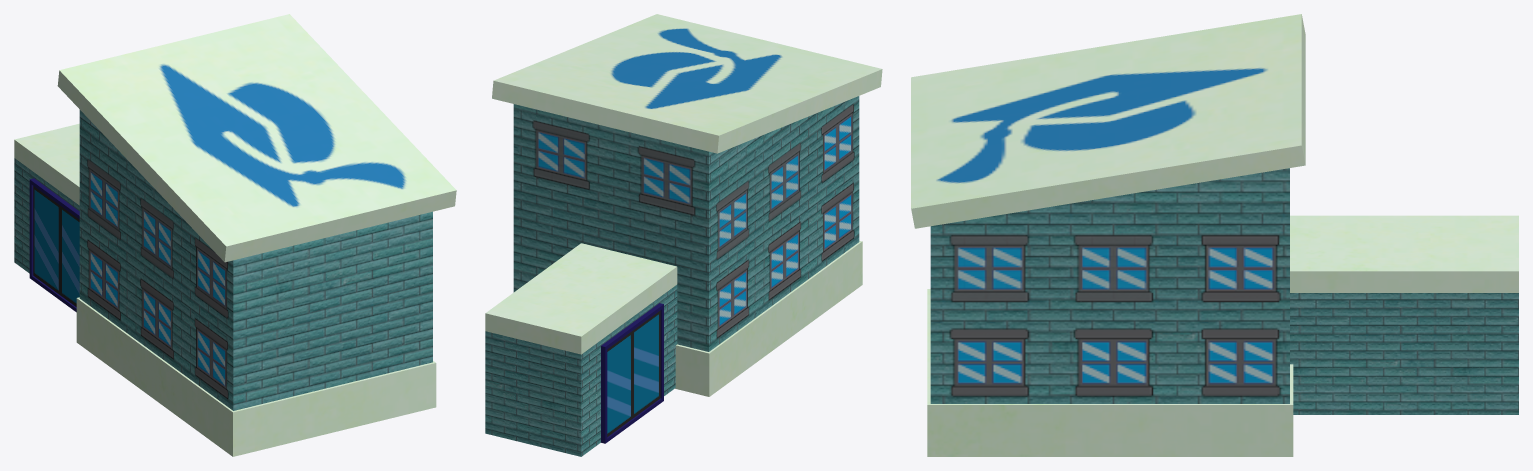
Rendered from Small School blue.FBX.
The picture shows the model from 3 angles, left to right: view 1: azimuth 30°, elevation 25°; view 2: azimuth 150°, elevation 25°; view 3: azimuth 270°, elevation 25°; orthographic projection. The views are drawn at different scales.
Visible parts, largest first — view 1: Box187, Box185, Box184; view 2: Box187, Box185, Box184; view 3: Box187, Box185.
Part boxes in pixels (x1=…): Box187: x1=57, y1=14, x2=456, y2=456; Box185: x1=14, y1=123, x2=79, y2=273; Box184: x1=29, y1=178, x2=79, y2=312; Box187: x1=492, y1=14, x2=882, y2=396; Box185: x1=485, y1=243, x2=677, y2=456; Box184: x1=601, y1=303, x2=663, y2=443; Box187: x1=911, y1=14, x2=1305, y2=456; Box185: x1=1290, y1=215, x2=1518, y2=414.
Bounding box in the file's own units: 443 × 502 × 866.
1 material, 1 textured.
